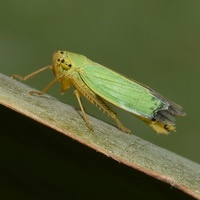insect: (12, 50, 185, 134)
